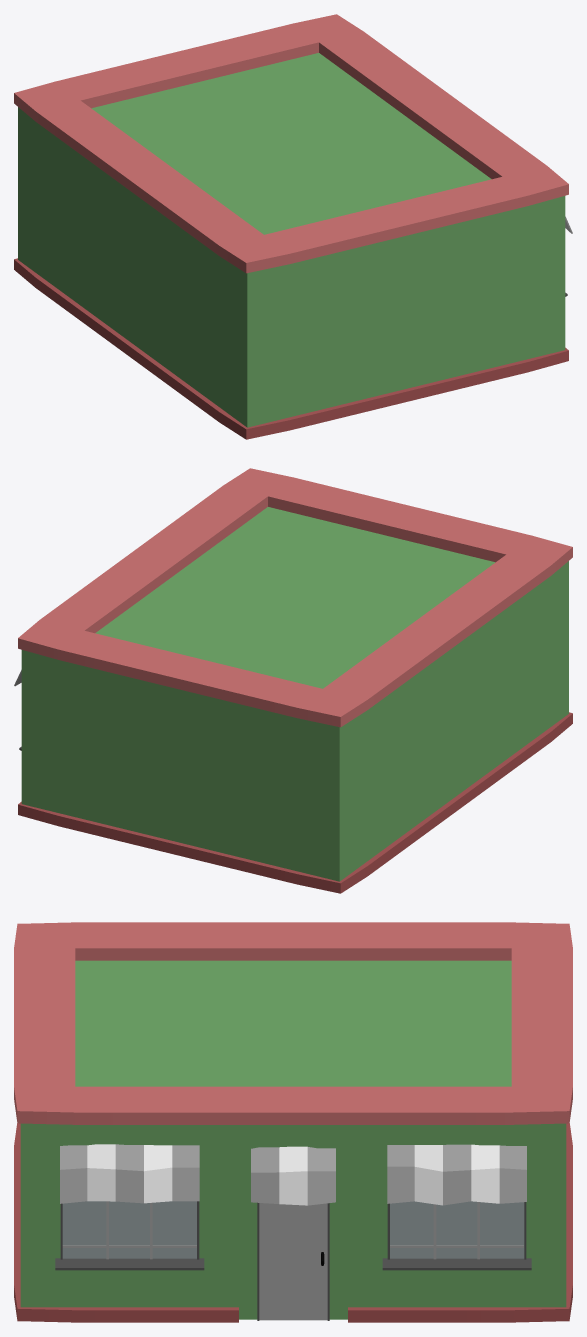
File: Building_13.fbx
3 views of the same model, one above another, from view 1: azimuth 30°, elevation 25°; view 2: azimuth 150°, elevation 25°; view 3: azimuth 270°, elevation 25° (orthographic). The views are drawn at different scales.
Visible parts, largest first — view 1: polySurface101; view 2: polySurface101; view 3: polySurface101.
Part boxes in pixels (x1=…): polySurface101: x1=14, y1=14, x2=572, y2=439; polySurface101: x1=14, y1=468, x2=572, y2=893; polySurface101: x1=14, y1=922, x2=572, y2=1322.
Size of the model in its own units: 8.78 by 4.25 by 10.25.
